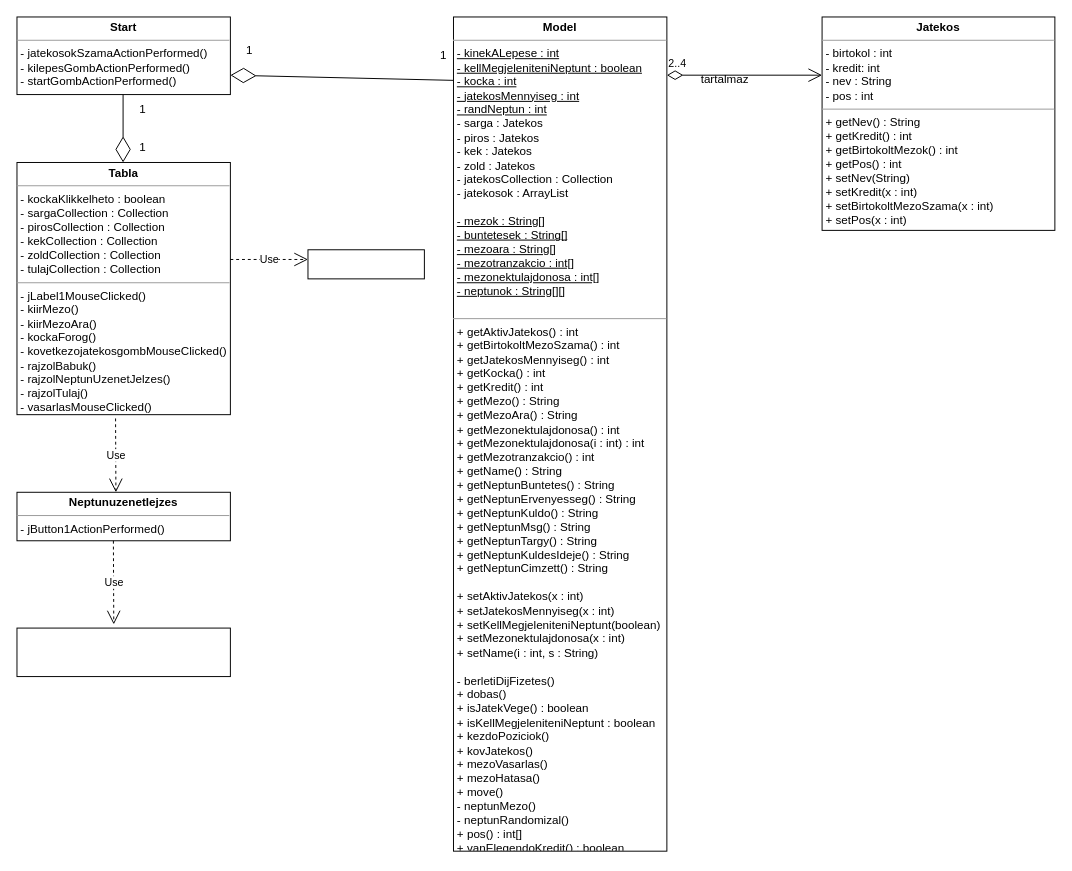
Image size: 1072x871. Some labels were removed from this diagram. The box of each missing label's shape, as (x1, y1, x2, y2) in pixels:
JatekVegeFrame: (307, 249, 424, 279)
UzenetFrame - jButton1ActionPerformed(): (16, 627, 230, 677)
